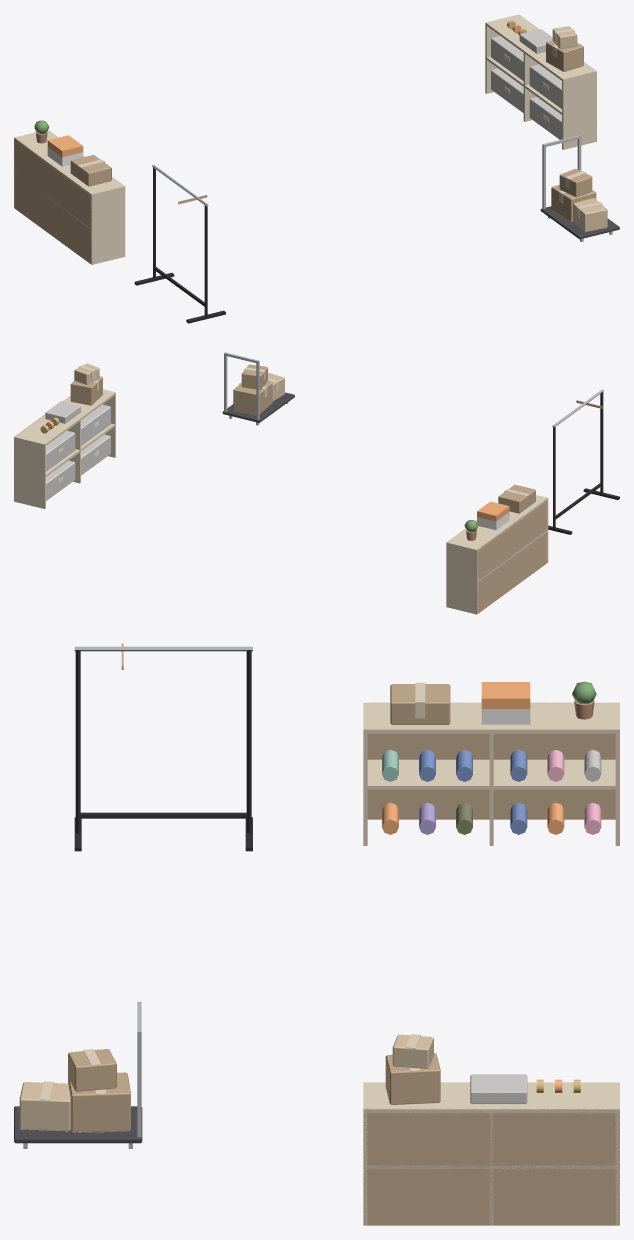
File: einrichtung_werkstatt_buehne.glb
3 renders of one model, top to bottom at view 1: azimuth 30°, elevation 25°; view 2: azimuth 150°, elevation 25°; view 3: azimuth 270°, elevation 25°, orthographic. The views are drawn at different scales.
Parts seen in each view (by area): view 1: einrichtung_werkstatt_buehne; view 2: einrichtung_werkstatt_buehne; view 3: einrichtung_werkstatt_buehne.
Boxes of the visible parts, bbox=[...] form: einrichtung_werkstatt_buehne: bbox=[14, 14, 619, 323]; einrichtung_werkstatt_buehne: bbox=[14, 352, 619, 614]; einrichtung_werkstatt_buehne: bbox=[14, 643, 619, 1225].
Size of the model in its own units: 6.75 by 1.5 by 4.25.
